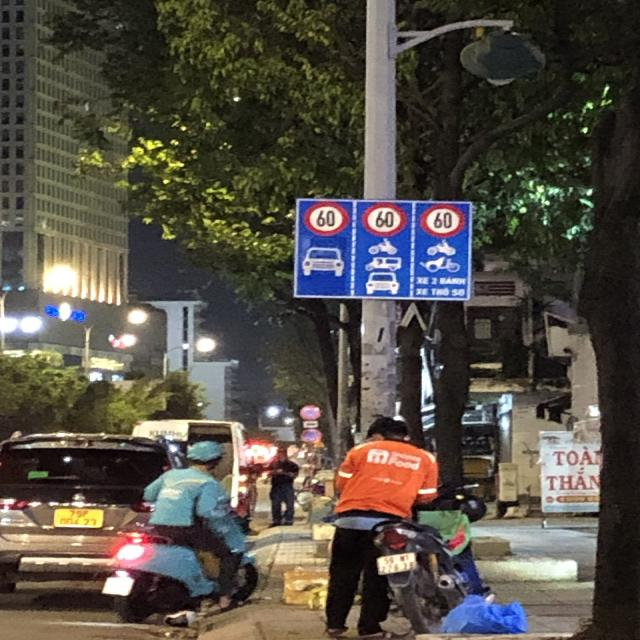Bien bao toc do toi da cho phep: (415, 200, 472, 238), (360, 198, 410, 240), (300, 199, 349, 236)
